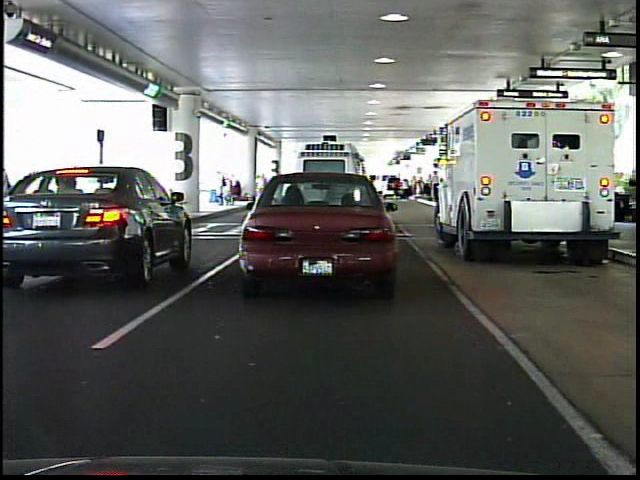person: (252, 172, 269, 208)
